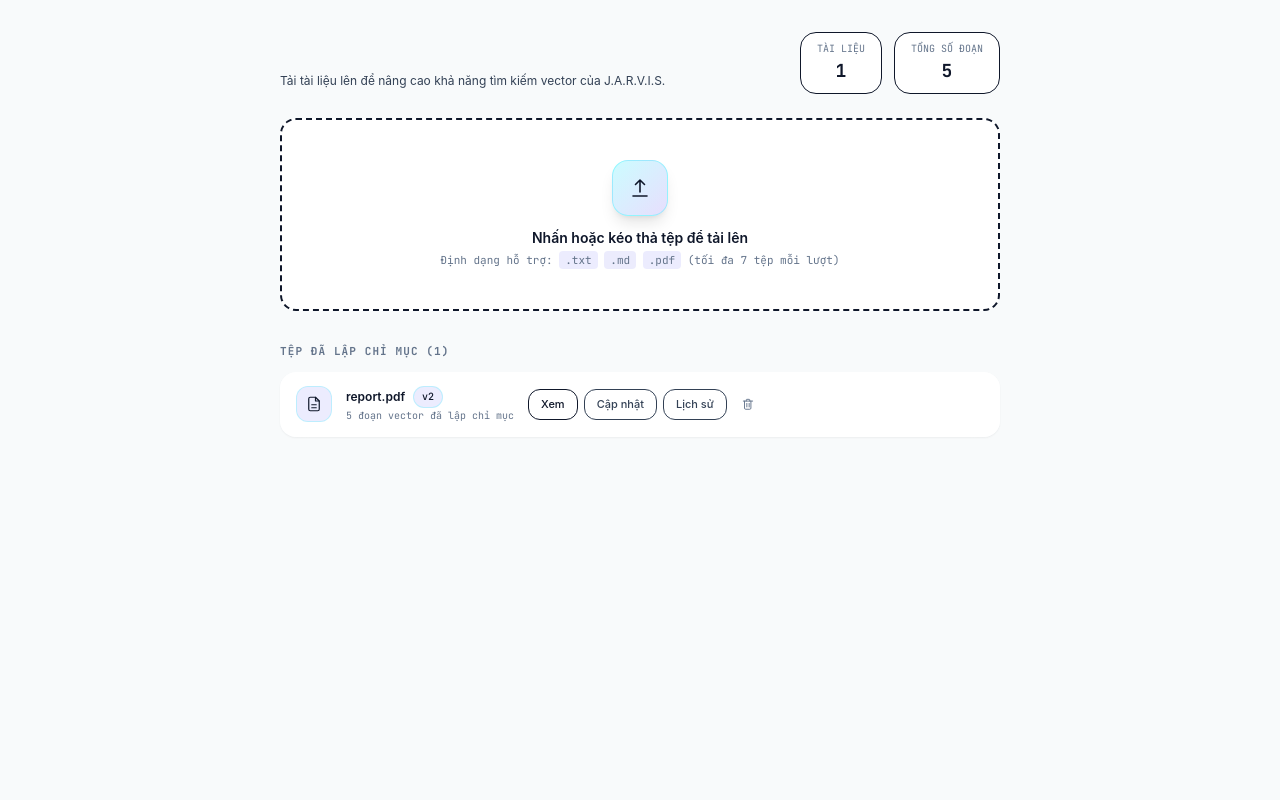
Test case: DocumentsView › shows the translated generic delete failure toast when the error is not an Error instance
The width and height of the screenshot is (1280, 800).
Click the button named "Xóa report.pdf".
click(748, 404)  # box [733,389,763,419]
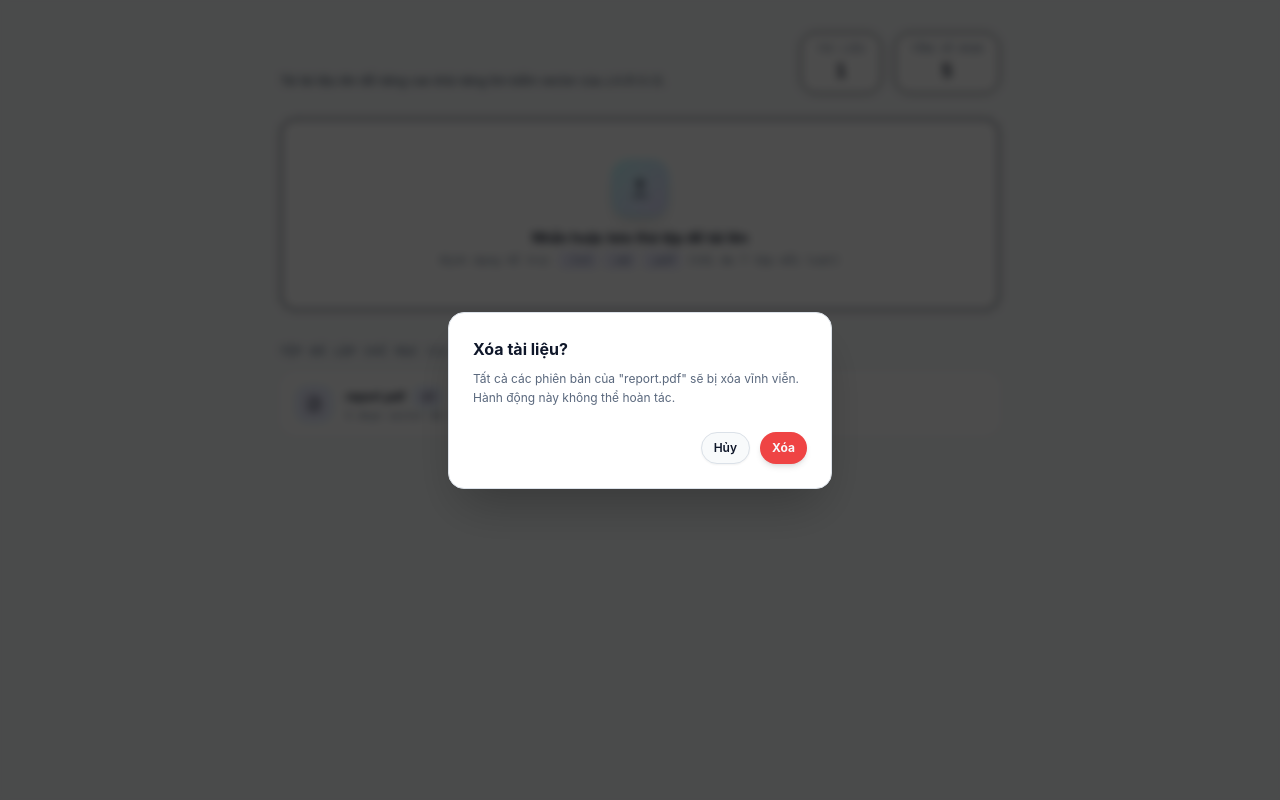
Click the button "Xóa".
click(784, 448)  # box [760,432,807,464]
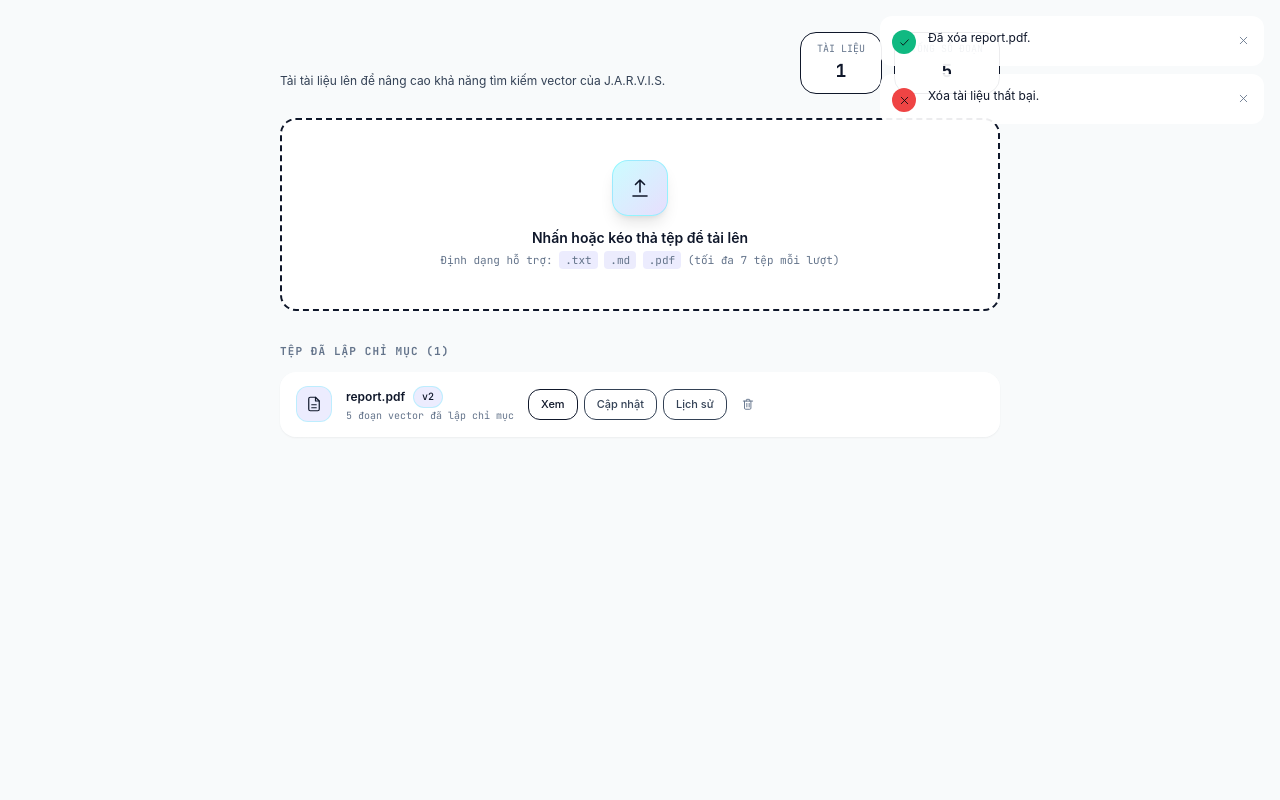
Result: the text "Xóa tài liệu thất bại." is shown at [928,88,1039,103]
